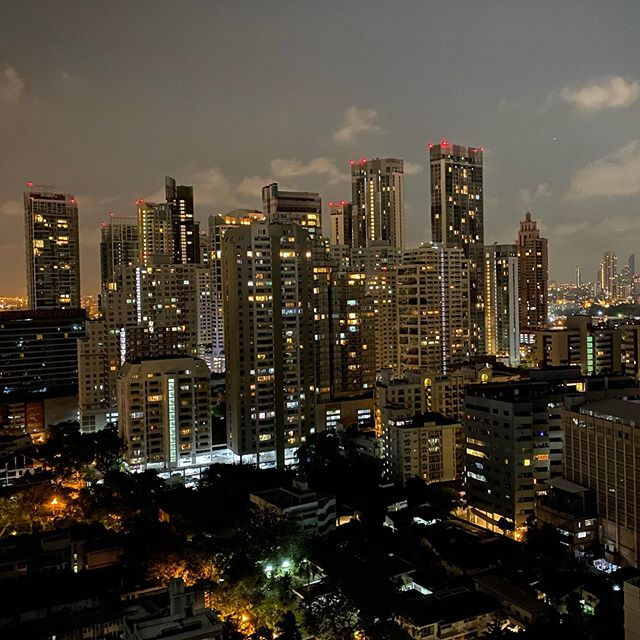building: (225, 227, 319, 458), (131, 191, 225, 358), (466, 380, 558, 532), (111, 351, 210, 477), (568, 403, 640, 558), (397, 250, 473, 377), (426, 142, 486, 295), (18, 182, 88, 301), (372, 412, 463, 493), (346, 157, 408, 250), (514, 216, 562, 335), (480, 244, 523, 366), (326, 200, 350, 245)
sky: (2, 1, 640, 278)
